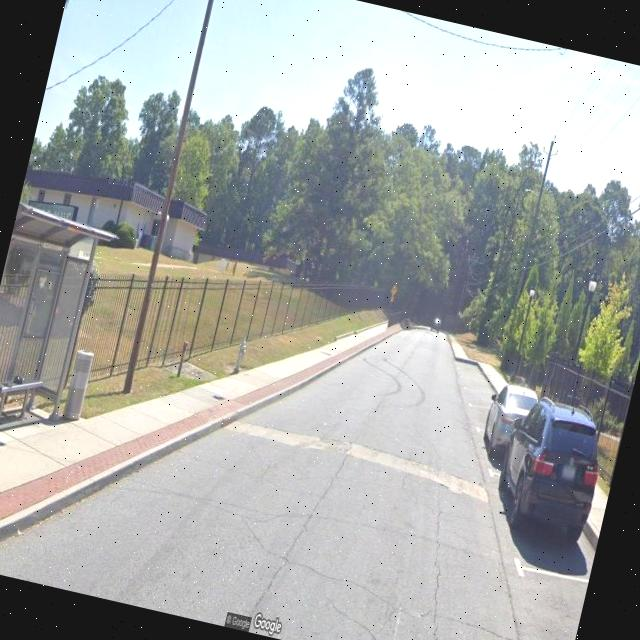seating: (0, 367, 43, 426)
shelter: (0, 197, 119, 450)
trash_can: (60, 347, 94, 424)
